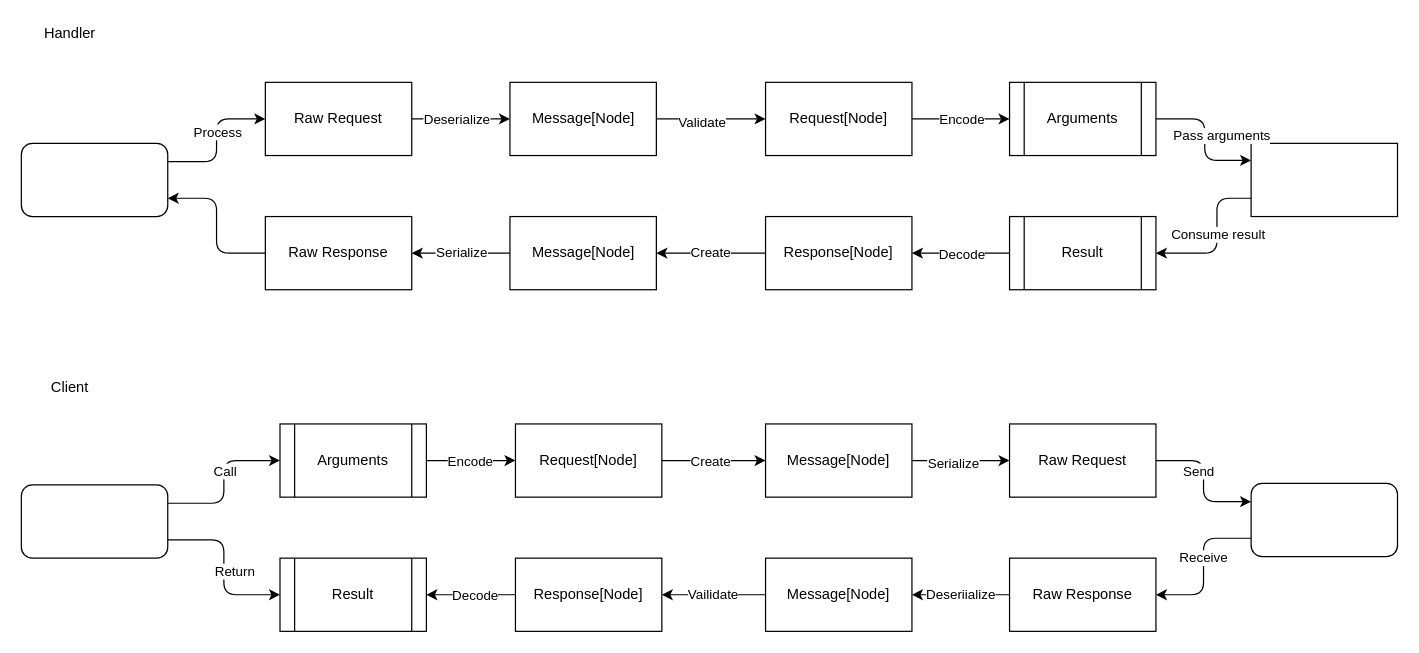
The diagram is 1419 pixels wide and 653 high, and some of its shapes have lost their labels. The box of each missing label's shape, as (x1, y1, x2, y2) in pixels:
Application: (20, 484, 168, 558)
Method call: (1250, 142, 1398, 217)
Server: (20, 142, 168, 217)
Transport: (1250, 482, 1398, 557)
